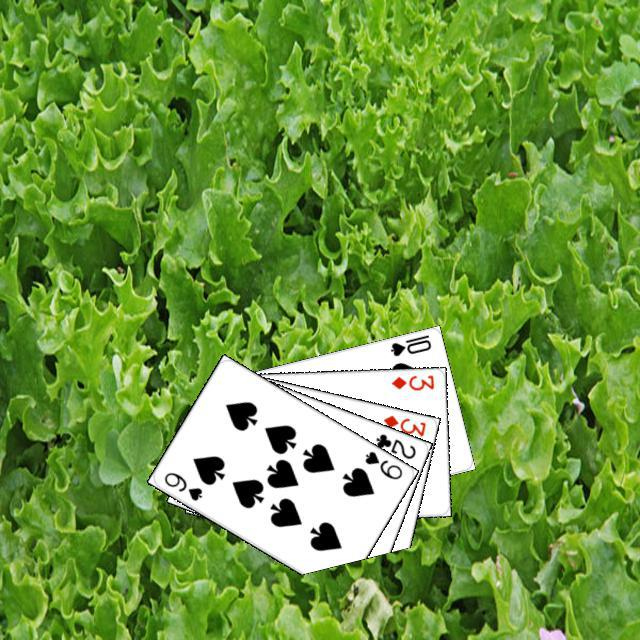10s: (385, 330, 433, 358)
2c: (371, 429, 418, 461)
3d: (378, 410, 427, 438), (387, 370, 436, 392)
9s: (159, 467, 204, 502), (360, 446, 404, 481)
